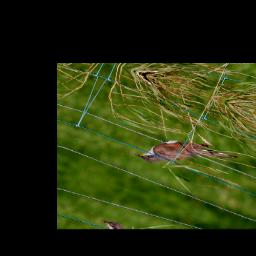Cuckoo: (132, 122, 243, 189)
